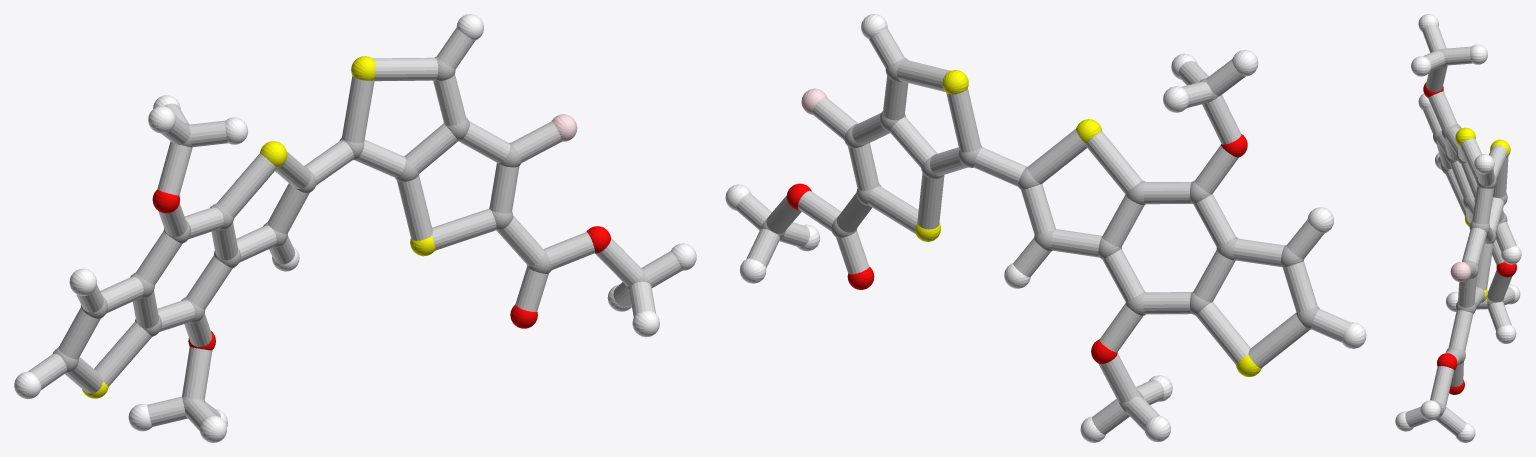
File: Dimethoxy_Benzodithiophene_Phi_20_Theta_150_Methylcarbonyl_3_Fluoro_Thienothiophene.glb
3 renders of one model, left to right at view 1: azimuth 30°, elevation 25°; view 2: azimuth 150°, elevation 25°; view 3: azimuth 270°, elevation 25°, orthographic. The views are drawn at different scales.
Visible parts, largest first — view 1: grp15205, grp8689, grp1, grp7241, grp13395; view 2: grp15205, grp8689, grp1, grp7241, grp13395; view 3: grp15205, grp8689, grp1, grp13395, grp7241, grp14843.
Part boxes in pixels (<box>): grp15205: <box>28,28,682,430</box>; grp8689: <box>14,14,696,442</box>; grp1: <box>52,56,649,418</box>; grp7241: <box>82,56,435,398</box>; grp13395: <box>152,189,610,350</box>; grp15205: <box>736,28,1350,434</box>; grp8689: <box>725,14,1366,442</box>; grp1: <box>760,57,1319,411</box>; grp7241: <box>915,70,1261,376</box>; grp13395: <box>786,134,1247,363</box>; grp15205: <box>1405,25,1516,435</box>; grp8689: <box>1395,14,1521,442</box>; grp1: <box>1433,48,1507,419</box>; grp13395: <box>1423,82,1516,394</box>; grp7241: <box>1455,127,1510,302</box>; grp14843: <box>1450,262,1471,281</box>.
Size of the model in its own units: 16.78 by 9.38 by 3.7.
